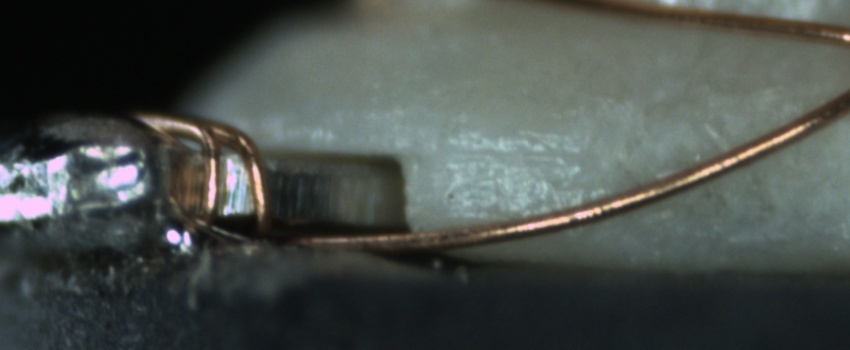DL: (449, 121, 580, 184)
TE: (128, 107, 276, 244)
